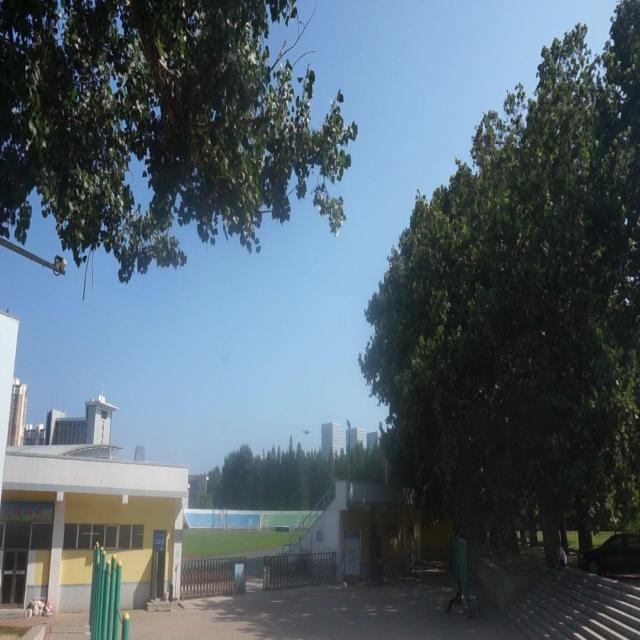drone: (298, 421, 314, 441)
